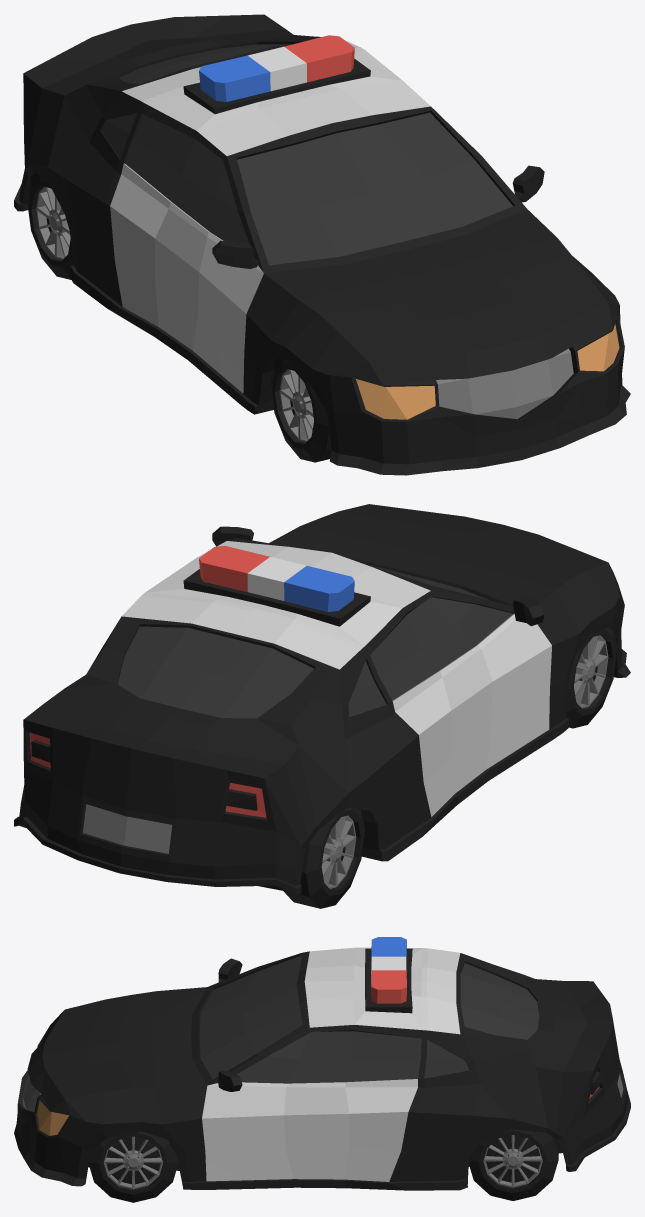
Rendered from q.cop.glb.
3 renders of one model, top to bottom at view 1: azimuth 30°, elevation 25°; view 2: azimuth 150°, elevation 25°; view 3: azimuth 270°, elevation 25°, orthographic. The views are drawn at different scales.
Visible parts, largest first — view 1: Cop, Cop_FrontRightWheel, Cop_BackWheels; view 2: Cop, Cop_BackWheels, Cop_FrontRightWheel; view 3: Cop, Cop_BackWheels, Cop_FrontLeftWheel.
Boxes of the visible parts, x1,y1,x2,y2 form: Cop: (14,14,630,475); Cop_FrontRightWheel: (270,358,331,462); Cop_BackWheels: (27,173,73,279); Cop: (14,504,630,895); Cop_BackWheels: (283,807,364,908); Cop_FrontRightWheel: (566,627,617,728); Cop: (14,937,630,1190); Cop_BackWheels: (469,1129,558,1200); Cop_FrontLeftWheel: (88,1131,178,1202).
Size of the model in its own units: 1.78 by 1.24 by 3.73.
